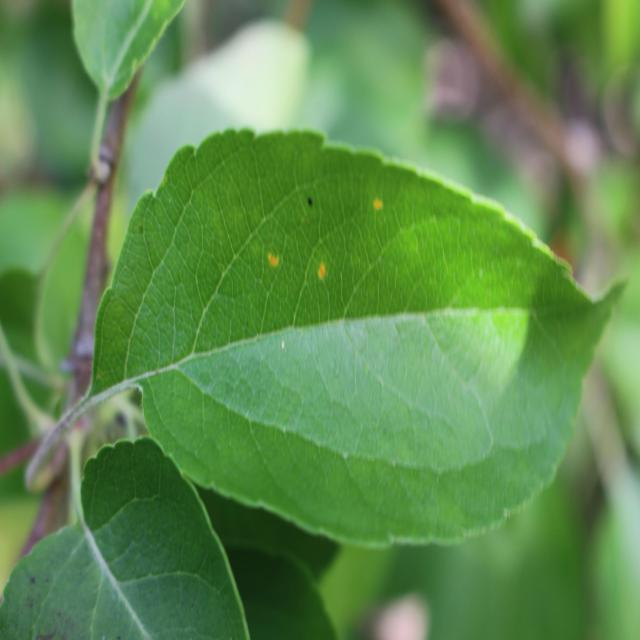Rust: (310, 243, 334, 304), (367, 188, 392, 220), (266, 240, 280, 283)
scab: (5, 556, 76, 640)
